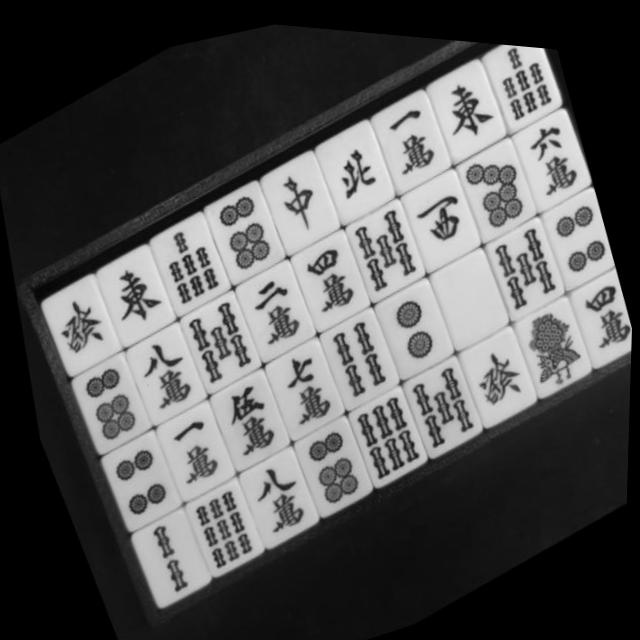hdg: (23, 271, 125, 387), (450, 327, 545, 435)
hdr: (243, 149, 340, 263)
hdw: (422, 249, 512, 355)
hwe: (79, 242, 178, 356), (409, 58, 508, 170)
hwn: (298, 120, 395, 231)
hww: (385, 166, 484, 281)
sb1: (503, 292, 603, 407)
sb2: (124, 504, 217, 613)
sb4: (310, 305, 403, 415)
sb5: (163, 285, 265, 403), (328, 196, 429, 313), (473, 215, 570, 328), (393, 353, 490, 465)
sb6: (339, 383, 436, 495)
sb7: (130, 209, 233, 327), (465, 33, 563, 139)
sb9: (178, 476, 269, 583)
sc1: (354, 89, 450, 201), (148, 402, 236, 505)
sc2: (223, 260, 315, 367)
sc4: (279, 230, 372, 338), (556, 266, 635, 376)
sc5: (198, 367, 295, 477)
sc6: (496, 108, 593, 220)
sc7: (254, 335, 349, 445)
sc8: (111, 321, 208, 431), (232, 446, 326, 553)
sd2: (367, 281, 454, 382)
sd4: (530, 188, 623, 296), (92, 431, 183, 536)
sd6: (186, 179, 286, 294), (286, 413, 378, 524), (61, 352, 150, 459)
sd7: (441, 136, 542, 252)
